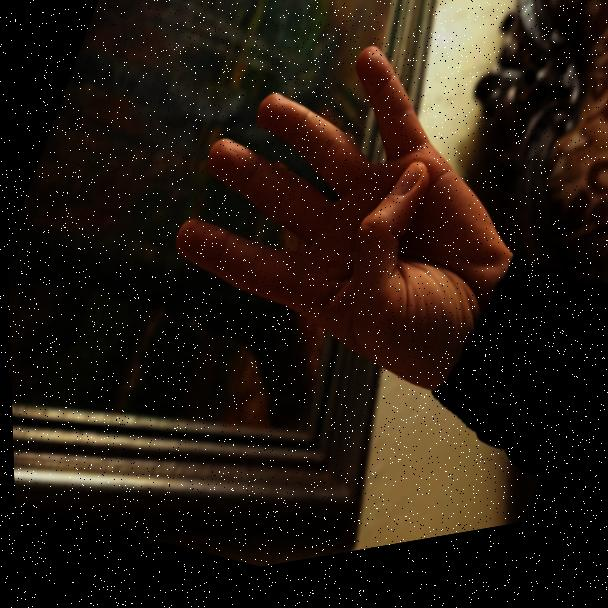four: (82, 0, 608, 569)
